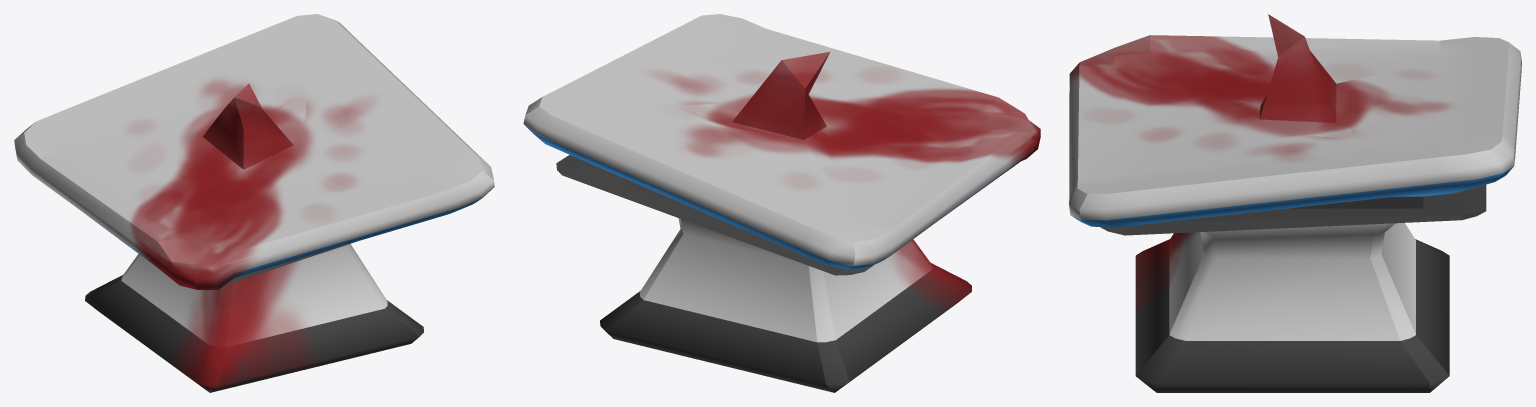
File: BrokenTable.fbx
The picture shows the model from 3 angles, left to right: view 1: azimuth 30°, elevation 25°; view 2: azimuth 150°, elevation 25°; view 3: azimuth 270°, elevation 25°; orthographic projection. The views are drawn at different scales.
Parts seen in each view (by area): view 1: Cube; view 2: Cube; view 3: Cube.
Part boxes in pixels (x1=…): Cube: x1=14, y1=14, x2=494, y2=392; Cube: x1=523, y1=14, x2=1040, y2=392; Cube: x1=1069, y1=14, x2=1521, y2=392.
Size of the model in its own units: 291 by 211 by 288.
1 material, 1 textured.
